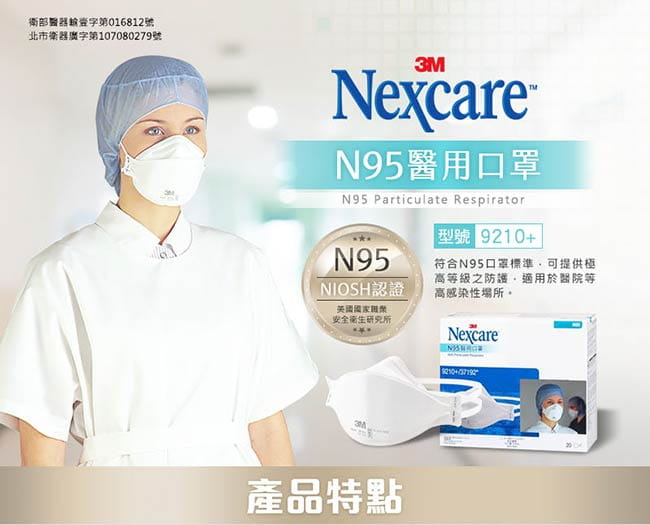Mask: (118, 96, 213, 211)
